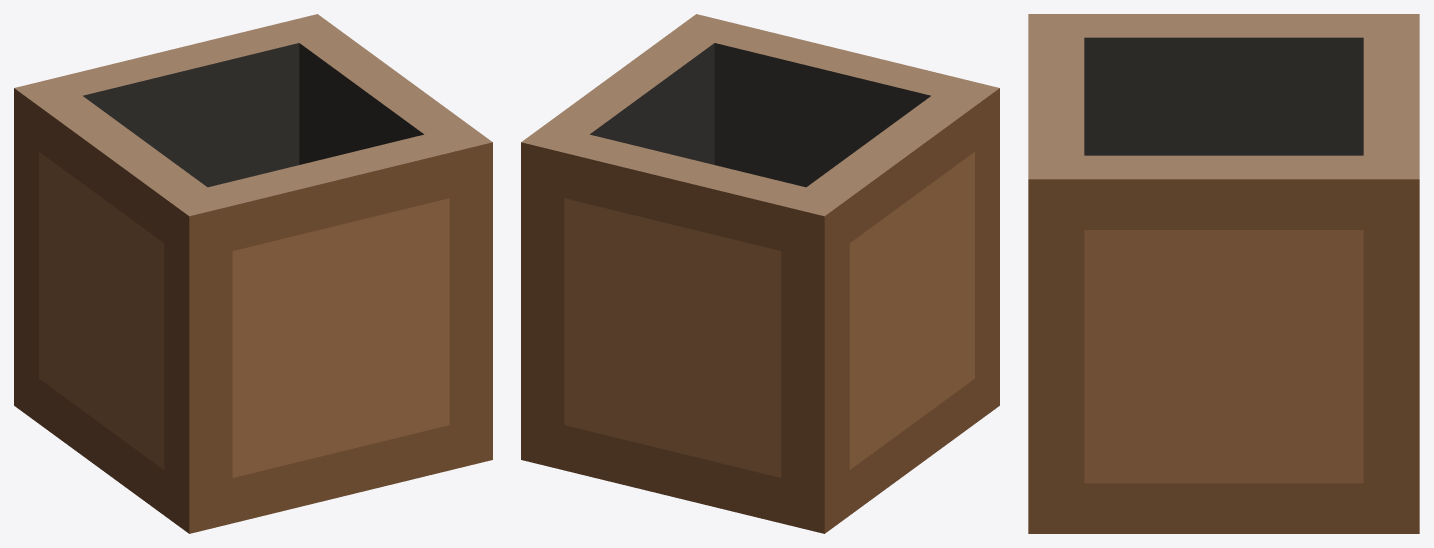
The model's file is TB_D_Prop_Crate_Open_B.FBX.
3 views of the same model, side by side, from view 1: azimuth 30°, elevation 25°; view 2: azimuth 150°, elevation 25°; view 3: azimuth 270°, elevation 25° (orthographic). The views are drawn at different scales.
Visible parts, largest first — view 1: TB_D_Prop_Crate_Open_B; view 2: TB_D_Prop_Crate_Open_B; view 3: TB_D_Prop_Crate_Open_B.
Part boxes in pixels (box(x1,y1,x2,y2)): TB_D_Prop_Crate_Open_B: box(14, 14, 492, 533); TB_D_Prop_Crate_Open_B: box(521, 14, 999, 533); TB_D_Prop_Crate_Open_B: box(1028, 14, 1419, 533).
Bounding box in the file's own units: 0.7554 × 0.7554 × 0.7554.
